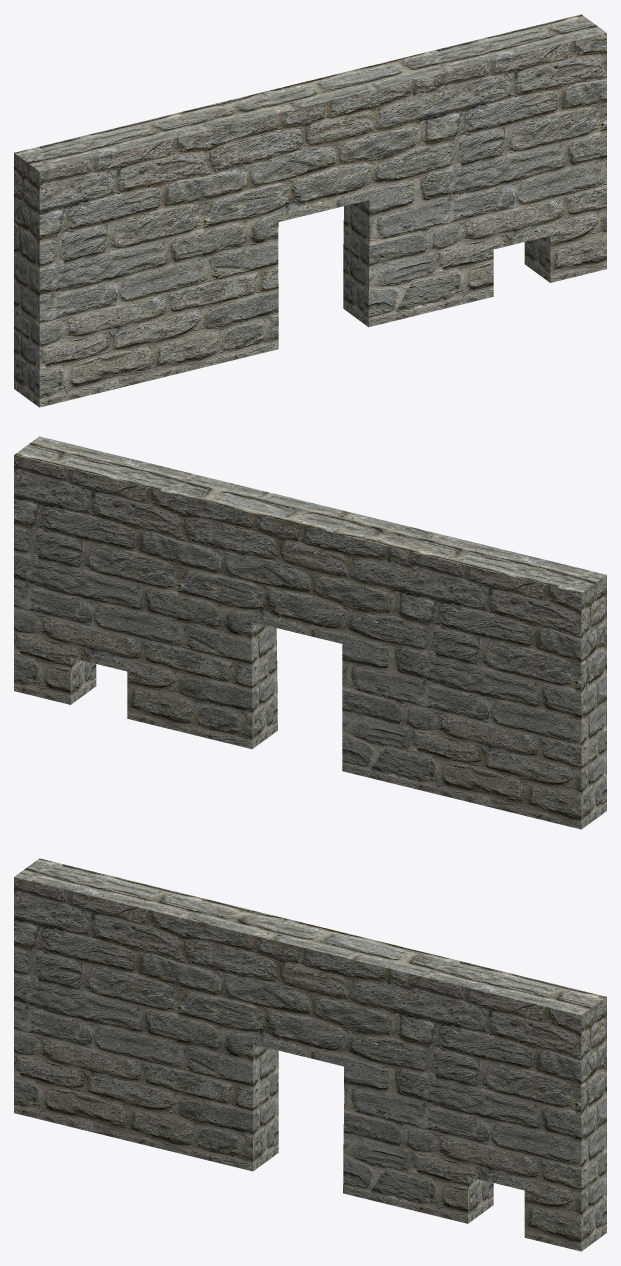
Rendered from wall_doors.FBX.
3 views of the same model, one above another, from view 1: azimuth 30°, elevation 25°; view 2: azimuth 150°, elevation 25°; view 3: azimuth 330°, elevation 25° (orthographic).
Parts seen in each view (by area): view 1: Box001; view 2: Box001; view 3: Box001.
Part boxes in pixels (<box>): Box001: <box>14,14,606,407</box>; Box001: <box>14,436,606,829</box>; Box001: <box>14,858,606,1251</box>.
Size of the model in its own units: 192 by 76.27 by 14.93.
Materials: 1 (1 with a texture image).
